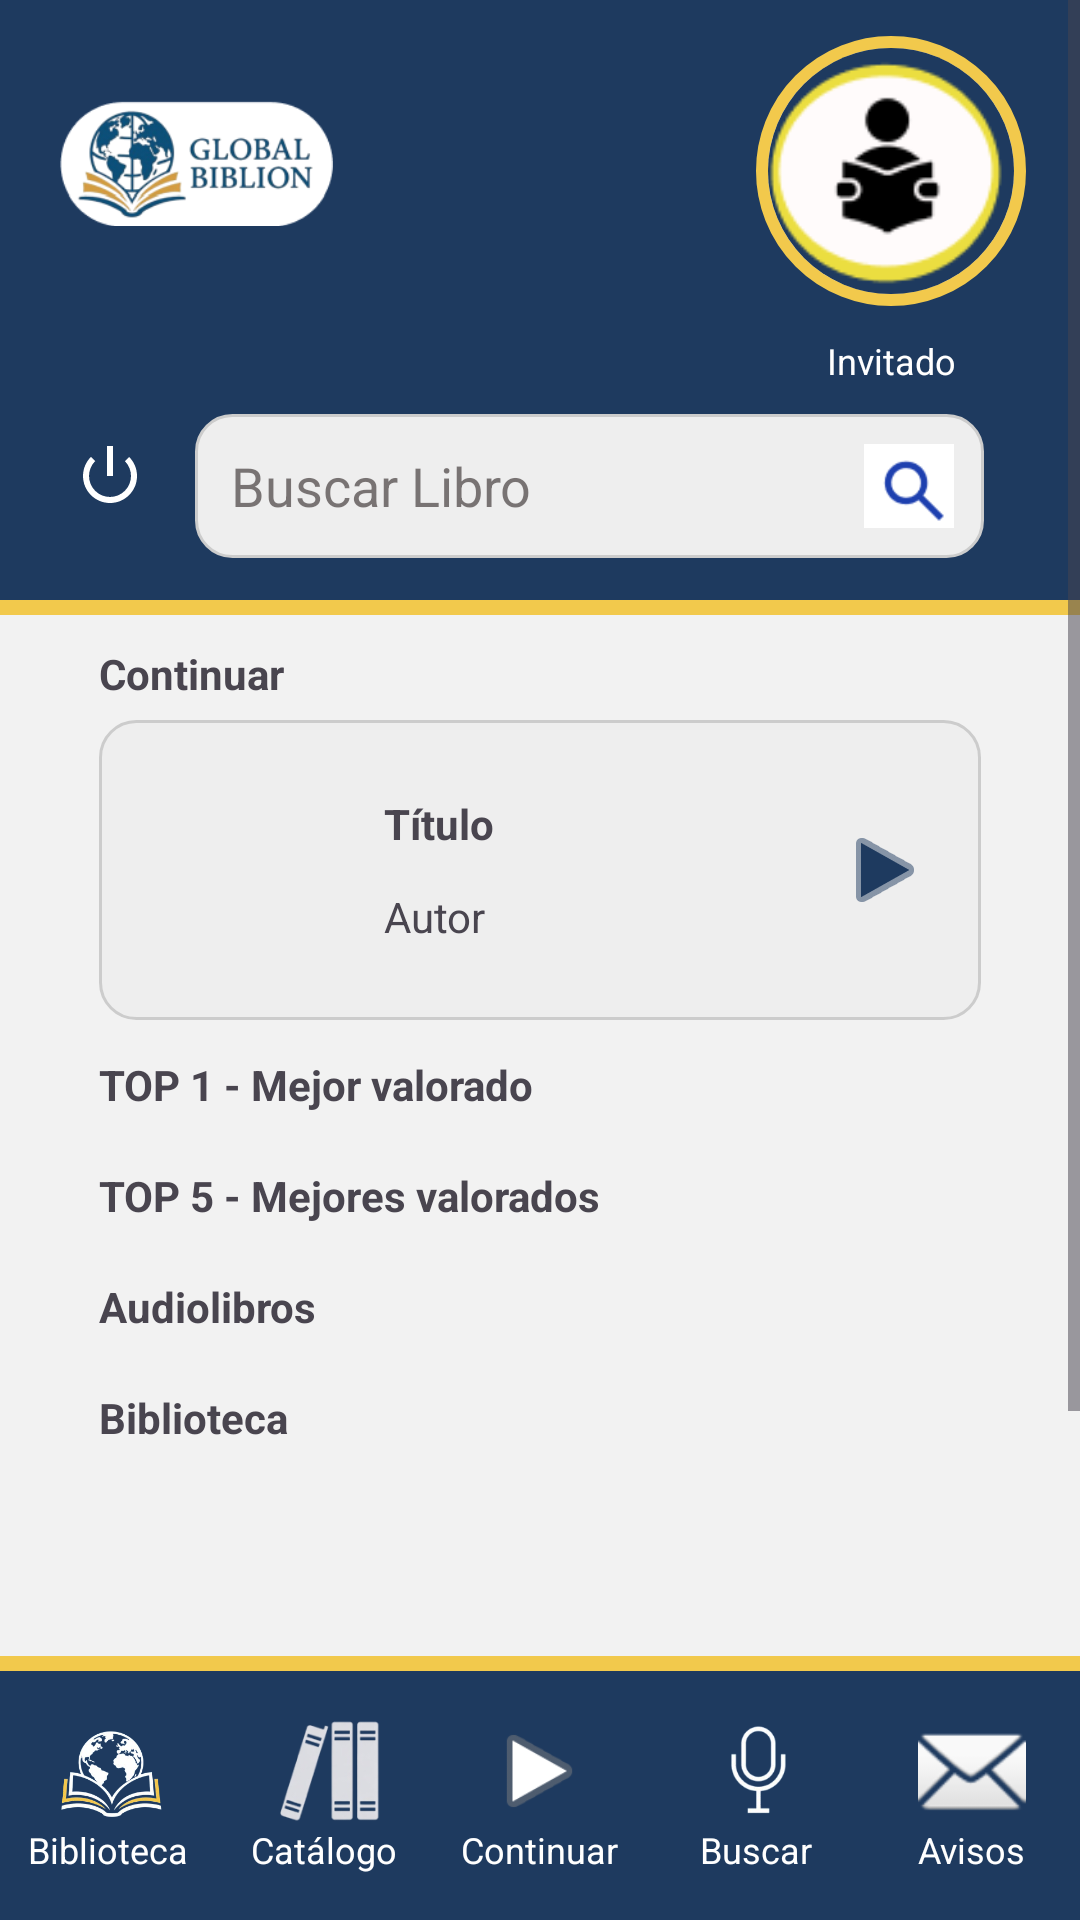

Screen size 1080 × 1920. Icon name, then its center in pixels as (x=x, y=y):
Cerrar sesión: (x=110, y=474)
Continuar lectura: (x=885, y=870)
email: (x=972, y=1772)
microfono: (x=758, y=1769)
Perfil: (x=886, y=173)
play: (x=539, y=1771)
